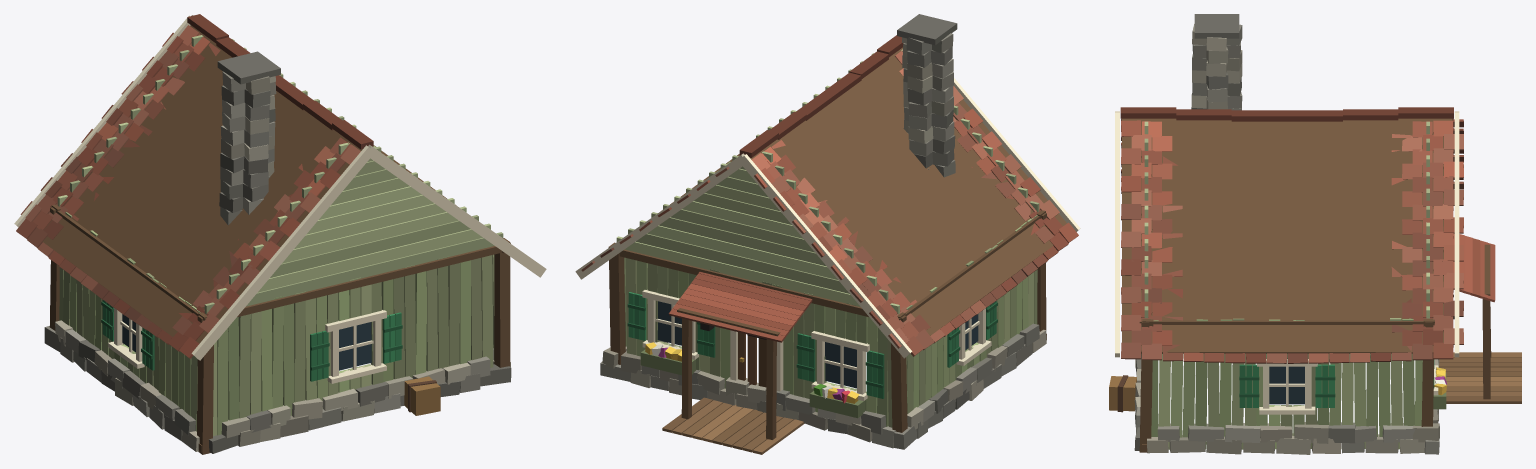
Rendered from casa_3.glb.
3 renders of one model, left to right at view 1: azimuth 30°, elevation 25°; view 2: azimuth 150°, elevation 25°; view 3: azimuth 270°, elevation 25°, orthographic. The views are drawn at different scales.
Parts seen in each view (by area): view 1: Madeira, Pedra, Telhado, Vidro; view 2: Madeira, Telhado, Pedra, Vidro; view 3: Madeira, Telhado, Pedra, Vidro.
Boxes of the visible parts, x1,y1,x2,y2 form: Madeira: (14,15,546,454); Pedra: (44,51,511,453); Telhado: (16,14,373,358); Vidro: (122,314,371,370); Madeira: (575,47,1080,454); Telhado: (581,35,1078,356); Pedra: (600,14,1046,449); Vidro: (657,301,978,388); Madeira: (1109,111,1521,452); Telhado: (1120,107,1495,363); Pedra: (1134,14,1446,454); Vidro: (1269,366,1304,404).
Size of the model in its own units: 8.42 by 7.69 by 8.8.
